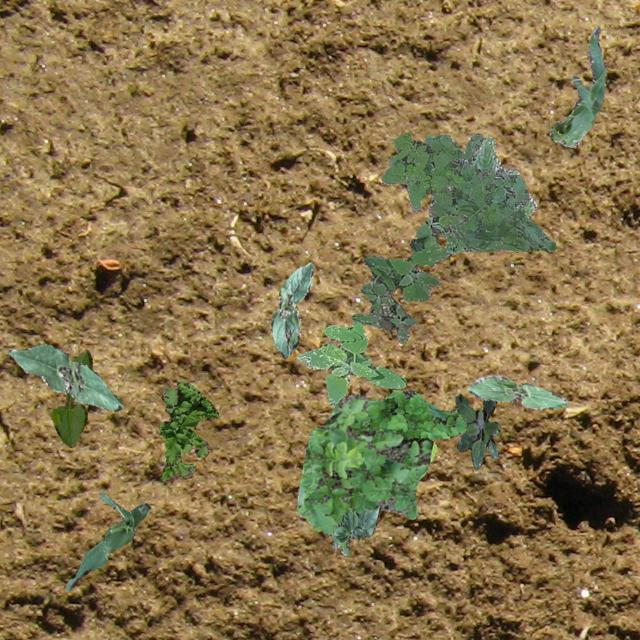crop: (64, 492, 150, 590), (7, 344, 122, 411), (548, 27, 606, 146), (470, 136, 536, 218), (270, 262, 314, 358), (49, 351, 92, 446), (466, 374, 568, 408), (332, 504, 378, 554)
weed: (380, 130, 554, 252), (296, 394, 436, 534), (351, 212, 466, 342), (294, 321, 406, 406), (158, 380, 218, 480), (364, 390, 466, 440), (454, 394, 500, 468)
